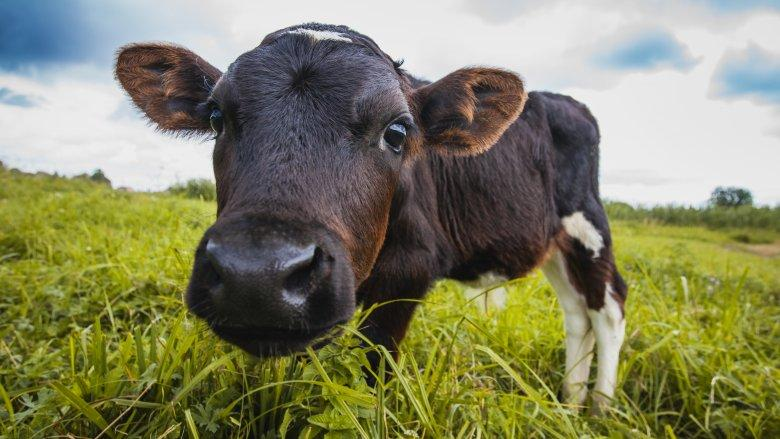muzzles: (164, 206, 376, 372)
